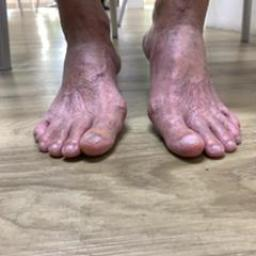Front View -Both Feet-: (15, 14, 252, 176)
